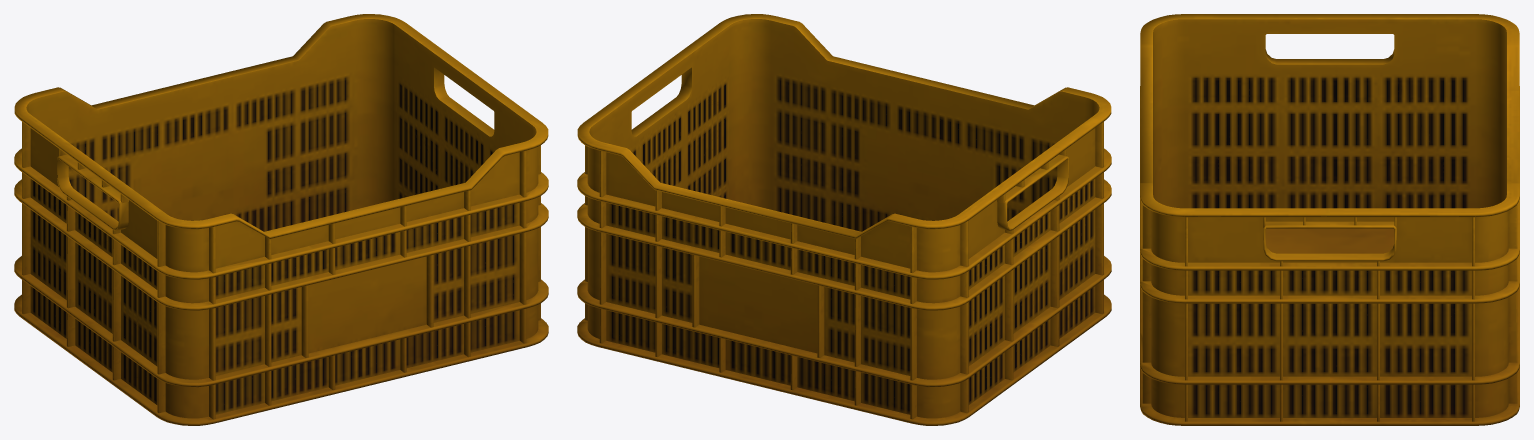
File: plasticcrate.glb
3 renders of one model, left to right at view 1: azimuth 30°, elevation 25°; view 2: azimuth 150°, elevation 25°; view 3: azimuth 270°, elevation 25°, orthographic. The views are drawn at different scales.
Visible parts, largest first — view 1: plastic_crate_02; view 2: plastic_crate_02; view 3: plastic_crate_02.
Part boxes in pixels (x1,y1,x2,y2): plastic_crate_02: [14, 14, 548, 425]; plastic_crate_02: [577, 14, 1111, 425]; plastic_crate_02: [1140, 14, 1519, 425].
Size of the model in its own units: 0.5055 by 0.2541 by 0.4055.
1 material, 1 textured.
